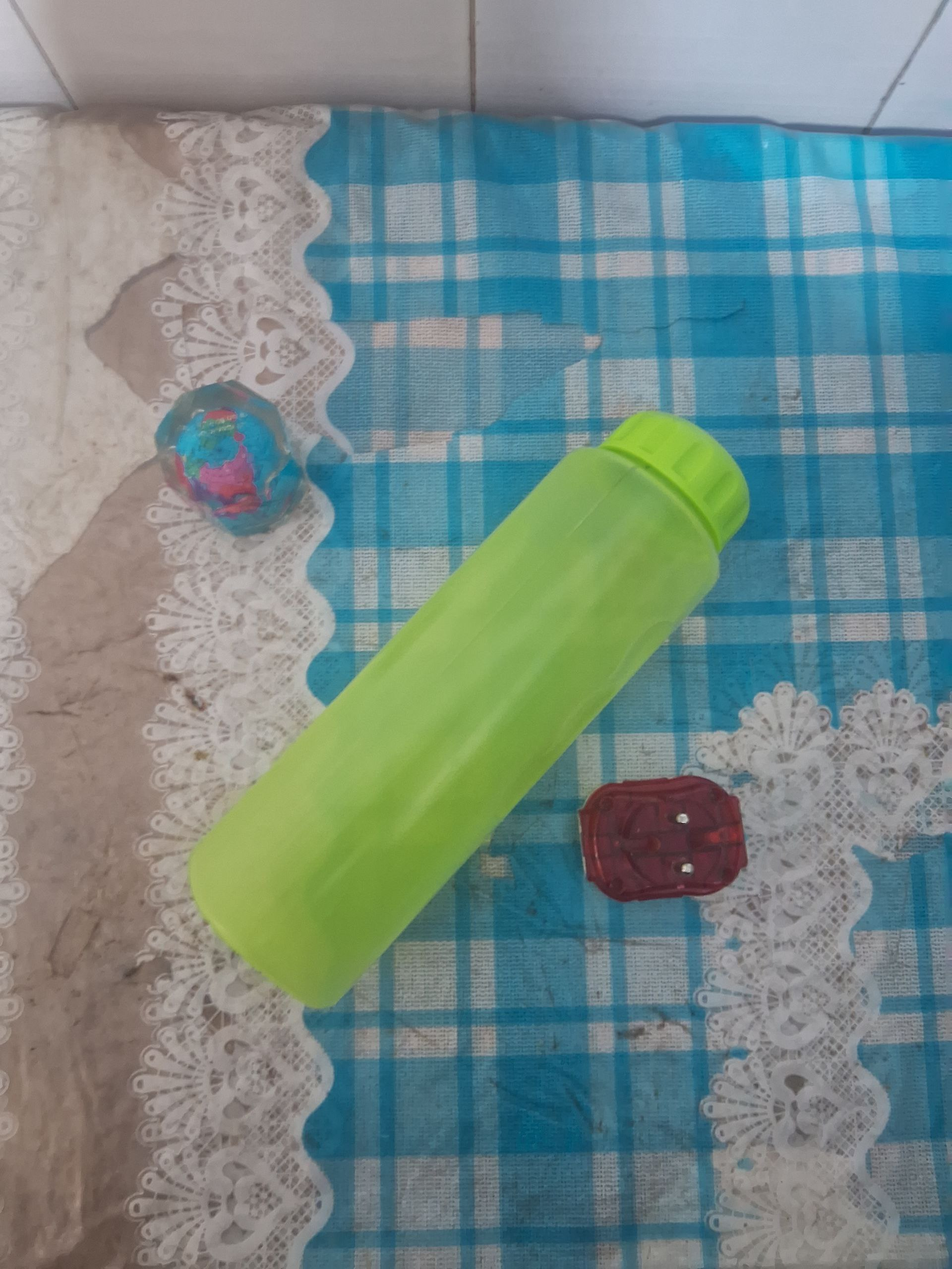Multi_adapter: (573, 777, 755, 904)
Water_bottle: (189, 409, 751, 1012)
world_globe: (152, 381, 310, 537)
